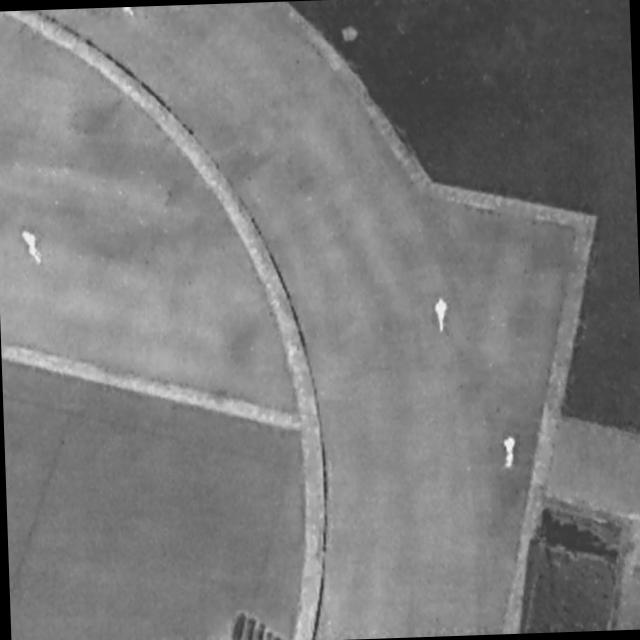person: (21, 225, 46, 268), (433, 294, 452, 332), (504, 437, 516, 468), (122, 8, 133, 17)
